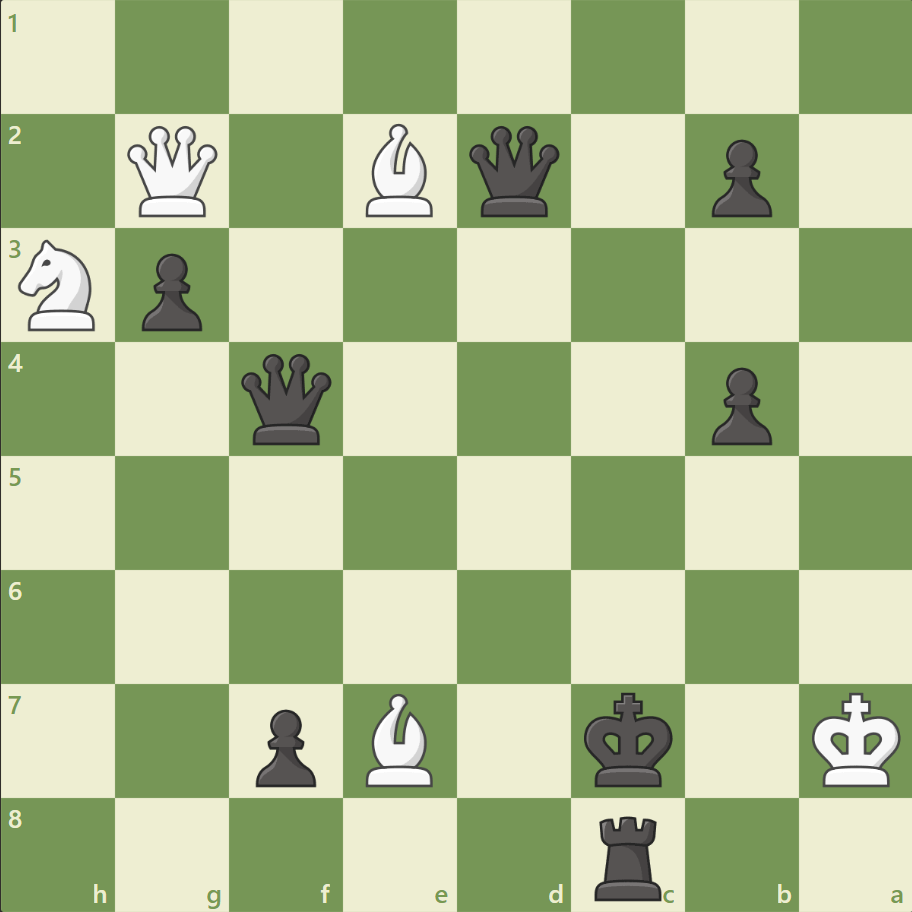B: (358, 687, 442, 790), (358, 120, 442, 222)
K: (806, 685, 906, 793)
N: (11, 234, 108, 337)
Q: (124, 122, 223, 222)
k: (579, 685, 679, 793)
p: (247, 700, 322, 791), (701, 359, 776, 450), (133, 246, 208, 337), (701, 132, 776, 223)
q: (237, 349, 336, 449), (464, 122, 563, 222)
r: (587, 806, 670, 904)
